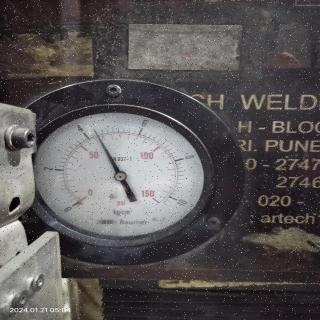gauge: (10, 100, 214, 276), (63, 196, 85, 212), (160, 200, 176, 214), (114, 170, 126, 182), (90, 126, 98, 134)
